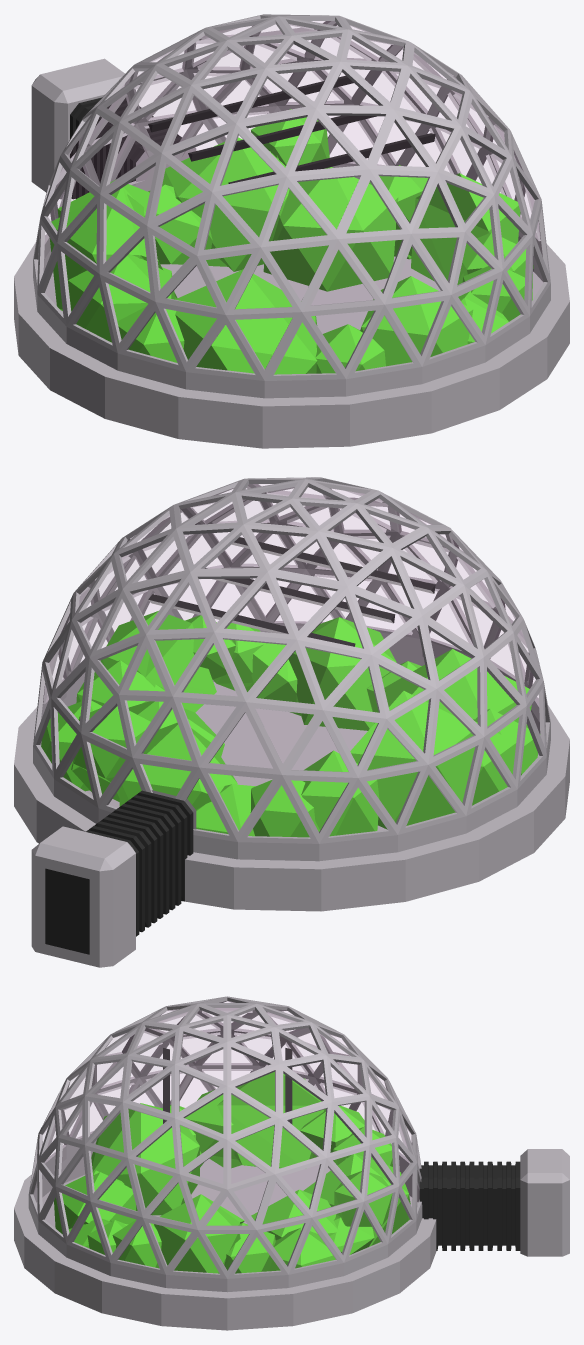
The picture shows the model from 3 angles, top to bottom: view 1: azimuth 30°, elevation 25°; view 2: azimuth 150°, elevation 25°; view 3: azimuth 270°, elevation 25°; orthographic projection. The views are drawn at different scales.
Parts seen in each view (by area): view 1: 大温室, 温室植物, 灯; view 2: 大温室, 温室植物, 灯; view 3: 大温室, 温室植物, 灯.
Boxes of the visible parts, bbox=[...] form: 大温室: bbox=[14, 14, 569, 448]; 温室植物: bbox=[49, 109, 533, 374]; 灯: bbox=[148, 75, 435, 183]; 大温室: bbox=[14, 477, 569, 967]; 温室植物: bbox=[41, 611, 540, 837]; 灯: bbox=[148, 537, 435, 646]; 大温室: bbox=[14, 996, 569, 1330]; 温室植物: bbox=[54, 1072, 410, 1273]; 灯: bbox=[163, 1048, 292, 1124].
Size of the model in its own units: 1315 by 773 by 1714.
